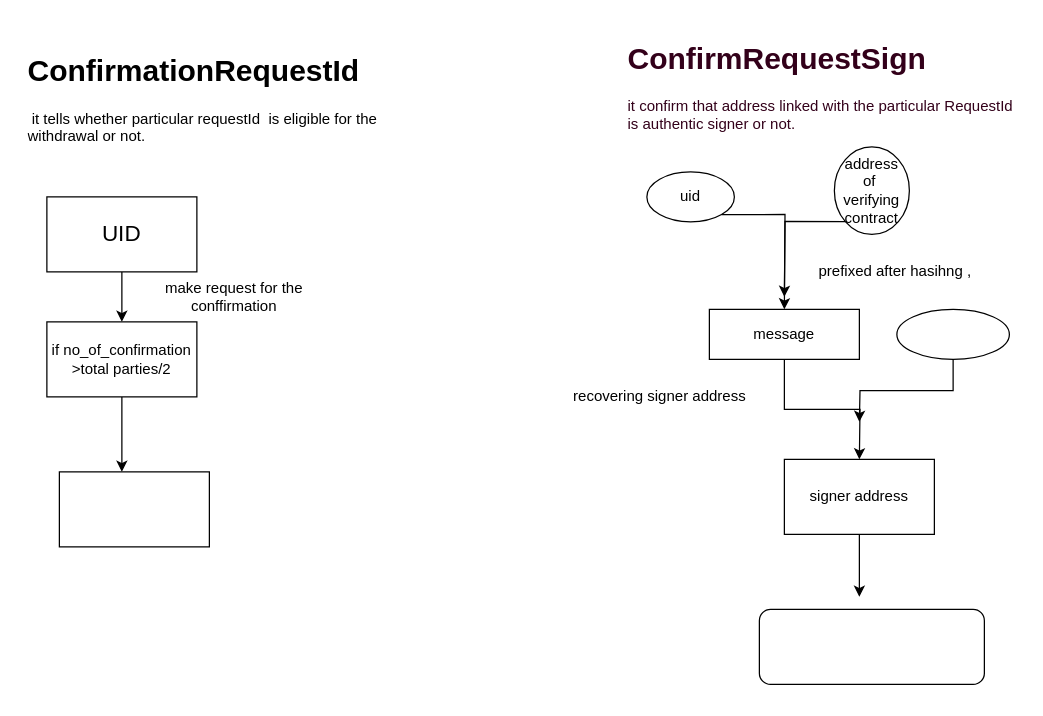
This 1043x716 diagram has some shape labels left out. Each missing label, with the centre of its shape:
"ParicipantsExist(signerAddress)" belongs at (871,646).
"RequestId confirmed" belongs at (133,509).
"signObj" belongs at (952,333).
